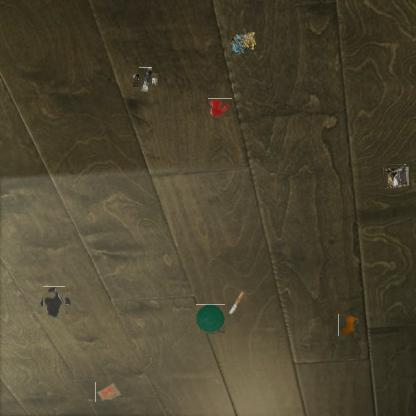dirty: (196, 304, 225, 334), (229, 30, 259, 56), (383, 164, 409, 188), (95, 382, 122, 402), (227, 291, 247, 317), (338, 314, 359, 336), (136, 70, 155, 90)
liquid: (41, 289, 68, 317), (208, 98, 232, 117)
